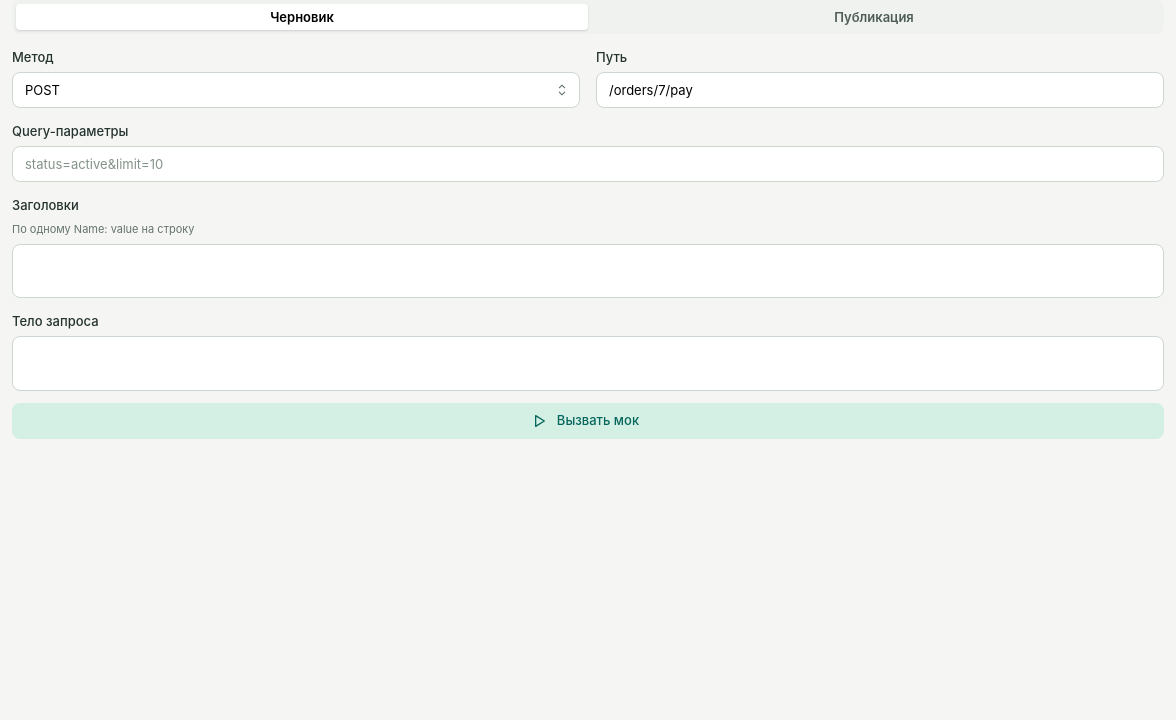
Test: displays committed HTTP entity JSON without changing numeric tokens
The image size is (1176, 720).
Click the button "Вызвать мок". click: (588, 421)
box: [12,403,1164,439]
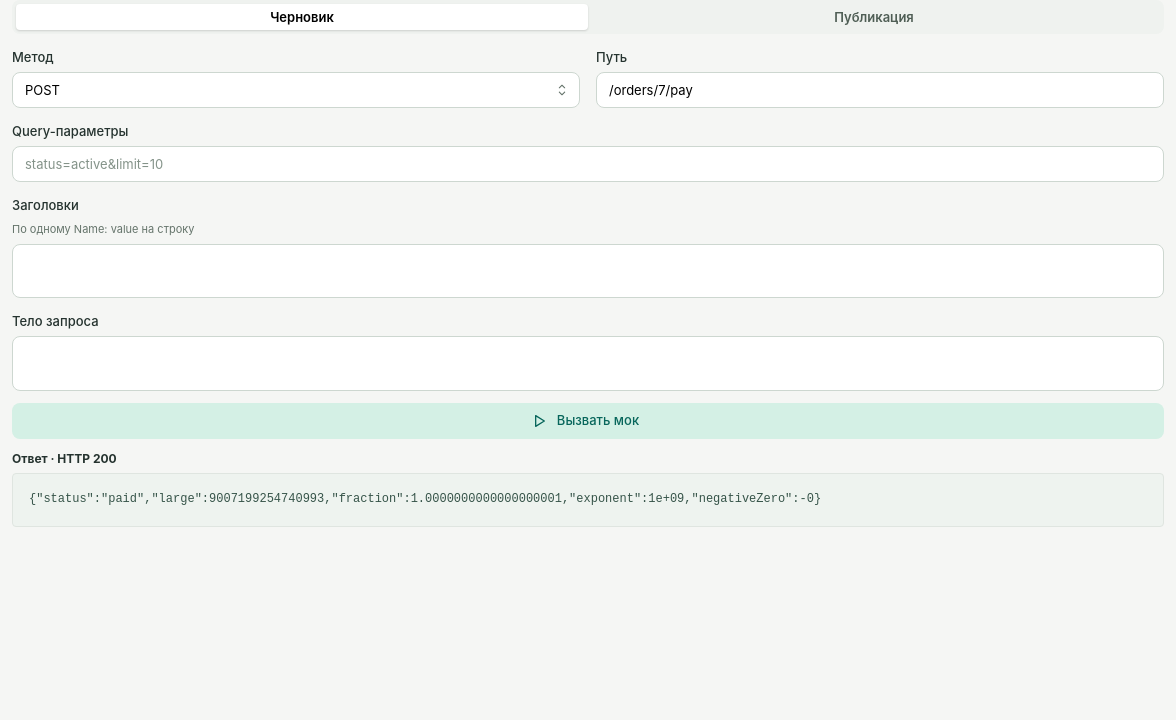
Expected: the text "Ответ · HTTP 200" is shown, [12,451,117,466]
Expected: the text "negativeZero" shows "{\"status\":\"paid\",\"large\":9007199254740993,\"fraction\":1.0000000000000000001,\"exponent\":1e+09,\"negativeZero\":-0}", [29,492,821,506]
